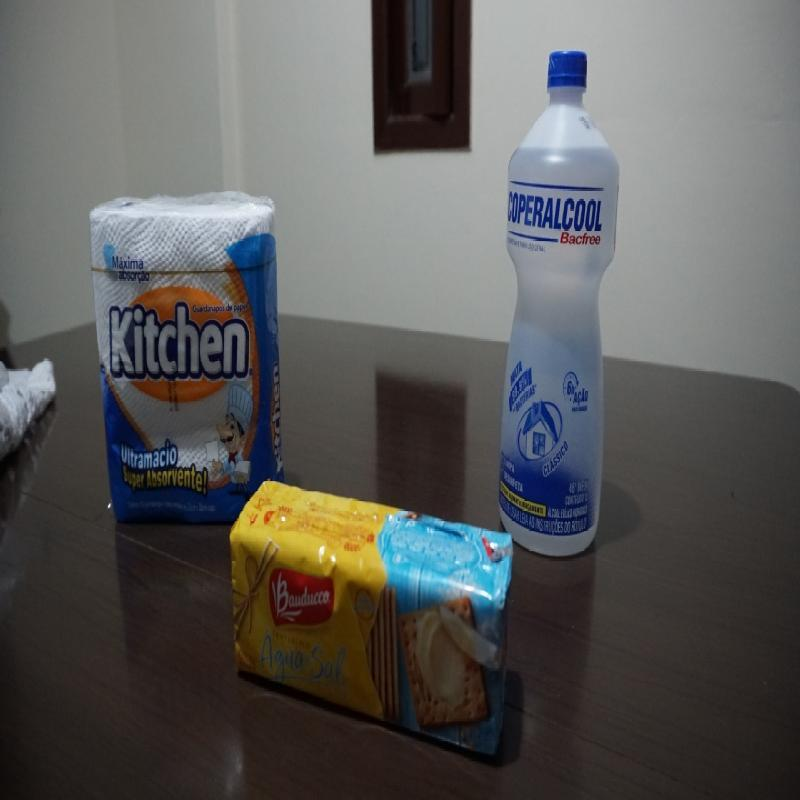Alcohol Bottle: (497, 49, 619, 559)
Cracker: (229, 478, 514, 759)
Napkin: (89, 192, 287, 531)
